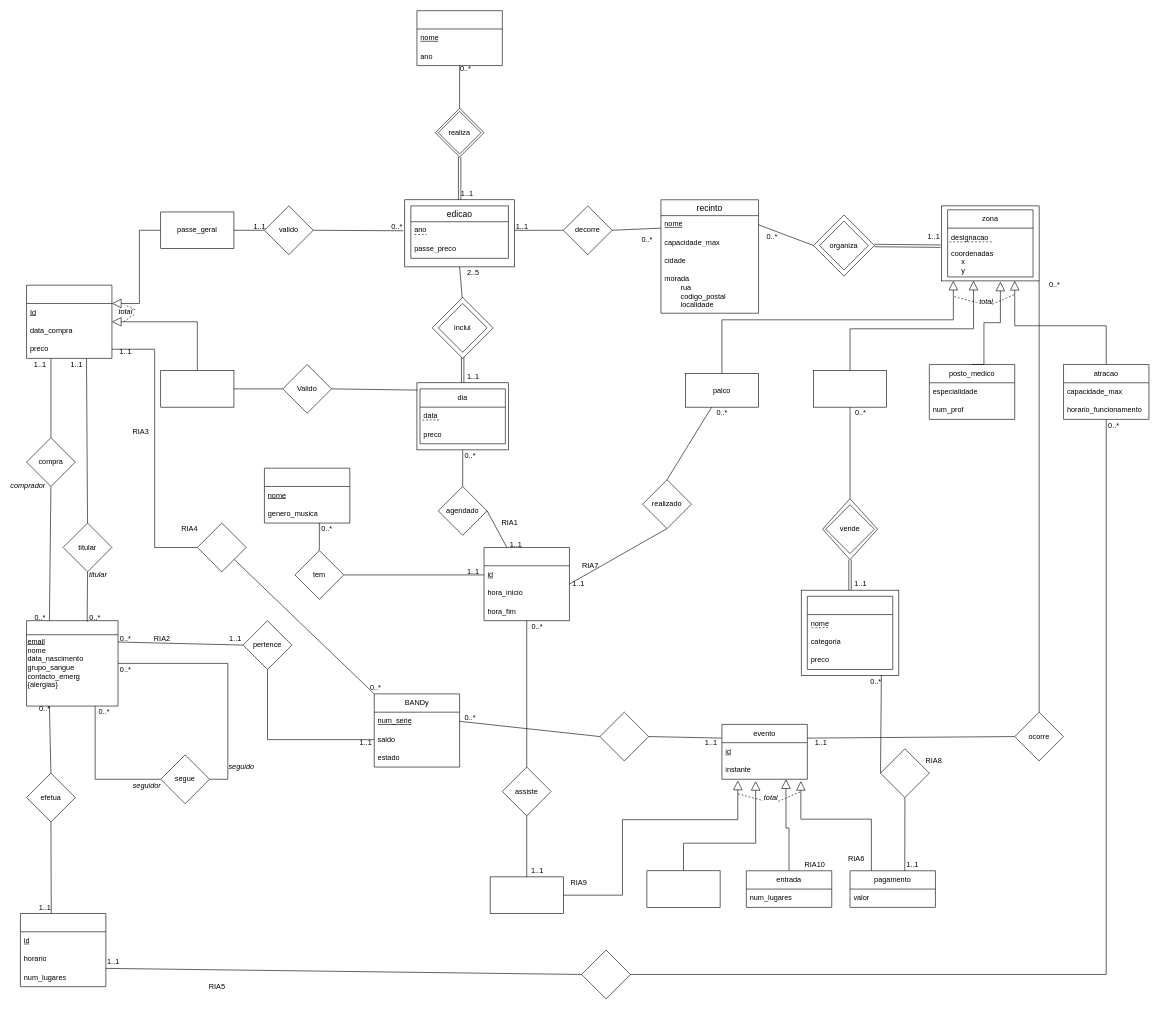
The diagram is 1160 pixels wide and 1010 high, and some of its shapes have lost their labels. Here are the shapes that lost their labels. From the top down, the box of each, then its label:
(416, 10, 502, 66): festival
(26, 285, 112, 358): bilhete
(160, 370, 234, 407): bilhete_diario
(813, 370, 887, 407): restauracao
(264, 468, 350, 523): artista
(197, 522, 246, 572): associado
(483, 547, 569, 621): concerto
(807, 596, 893, 669): produto
(26, 620, 118, 706): utilizador
(599, 712, 649, 761): regista
(880, 748, 929, 798): paga
(490, 876, 563, 913): check_in
(646, 870, 720, 907): saida
(20, 913, 106, 987): reserva
(581, 949, 630, 999): refere
